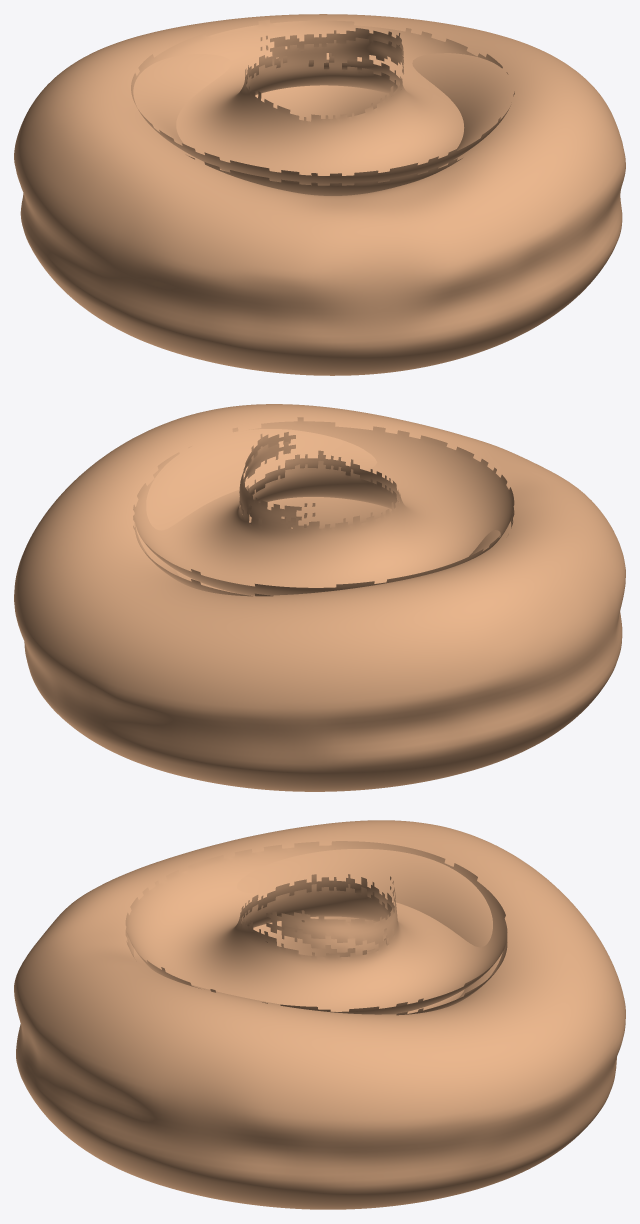
The model's file is DonutV2.fbx.
3 views of the same model, one above another, from view 1: azimuth 30°, elevation 25°; view 2: azimuth 150°, elevation 25°; view 3: azimuth 270°, elevation 25° (orthographic).
Visible parts, largest first — view 1: Donut; view 2: Donut; view 3: Donut.
Boxes of the visible parts, x1,y1,x2,y2 form: Donut: (14,14,625,375); Donut: (14,404,625,791); Donut: (14,820,625,1209).
Size of the model in its own units: 27741 by 11992 by 27947.
